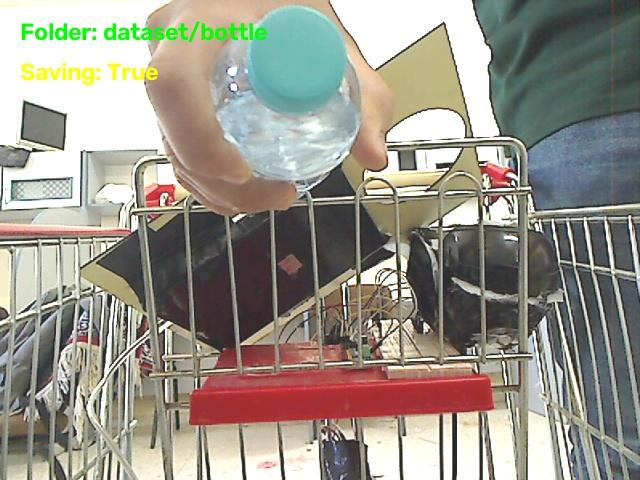Bottle: (210, 7, 360, 191)
